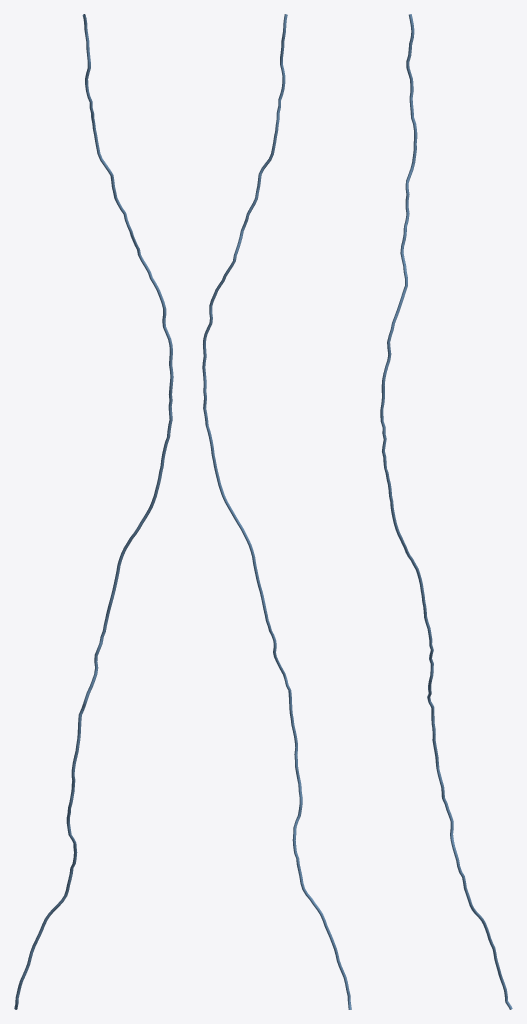
File: sweep62.fbx
3 views of the same model, side by side, from view 1: azimuth 30°, elevation 25°; view 2: azimuth 210°, elevation 25°; view 3: azimuth 270°, elevation 25° (orthographic). The views are drawn at different scales.
Visible parts, largest first — view 1: sweep62; view 2: sweep62; view 3: sweep62.
Boxes of the visible parts, bbox=[...] form: sweep62: bbox=[14, 14, 173, 1009]; sweep62: bbox=[202, 14, 351, 1009]; sweep62: bbox=[380, 14, 512, 1009].
Size of the model in its own units: 0.6652 by 6.96 by 0.8315.
